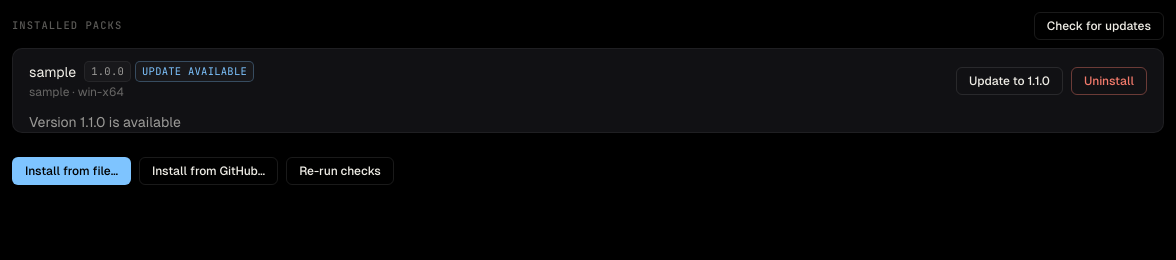
Test: PacksSettings › surfaces an Update failure through the alert, not a silent re-enable
Click the button with aria-label "update · sample": (1009, 80) x1=956 y1=66 x2=1063 y2=94
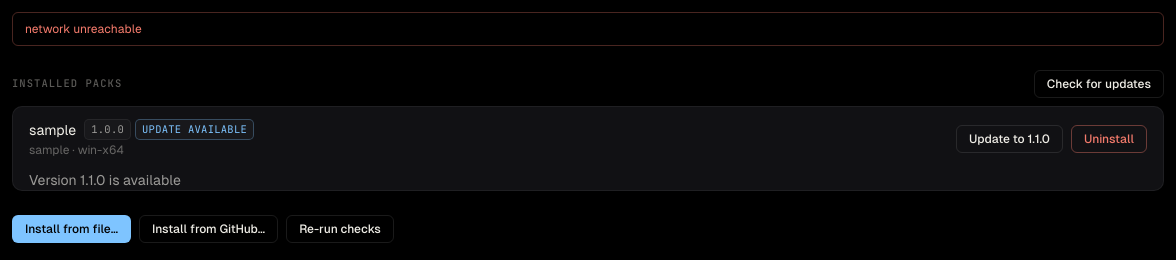
expect the message reads "network unreachable": met, box x1=25 y1=22 x2=142 y2=36
